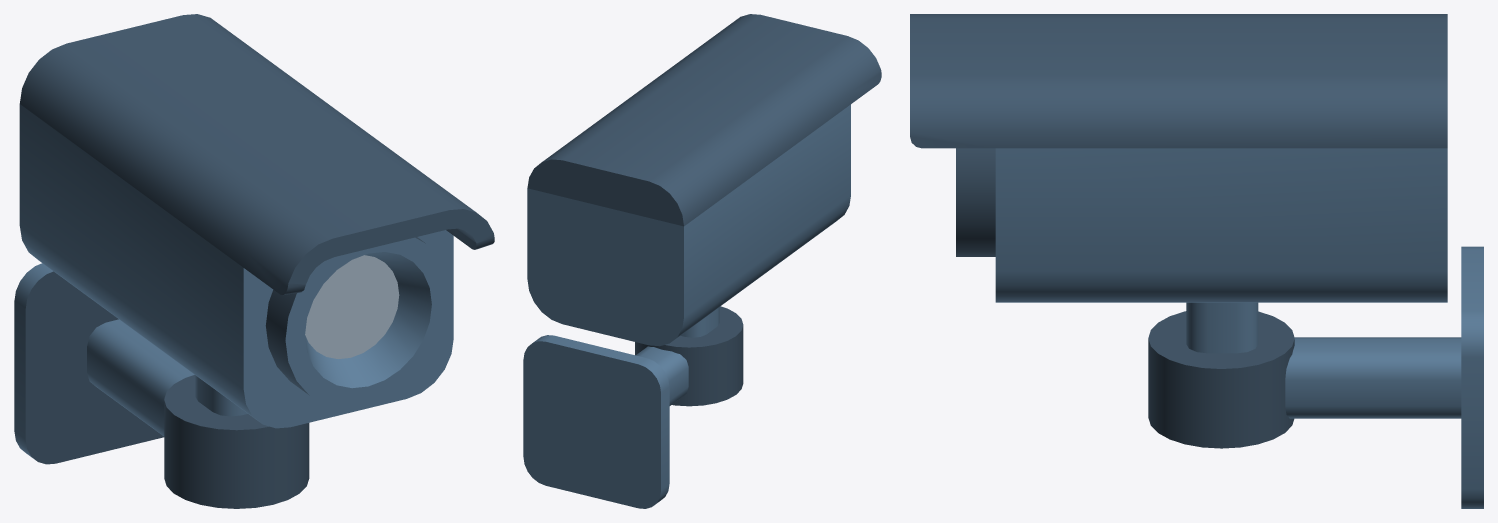
The model's file is Camera.fbx.
3 views of the same model, side by side, from view 1: azimuth 30°, elevation 25°; view 2: azimuth 150°, elevation 25°; view 3: azimuth 270°, elevation 25° (orthographic). The views are drawn at different scales.
Visible parts, largest first — view 1: Camera, Camera.001; view 2: Camera, Camera.001; view 3: Camera, Camera.001.
Part boxes in pixels (x1,y1,x2,y2): Camera: (19,14,494,428); Camera.001: (14,263,309,508); Camera: (527,14,881,346); Camera.001: (523,306,743,508); Camera: (910,14,1447,302); Camera.001: (1148,246,1483,508).
Bounding box in the file's own units: 0.497 × 0.9592 × 1.17.
